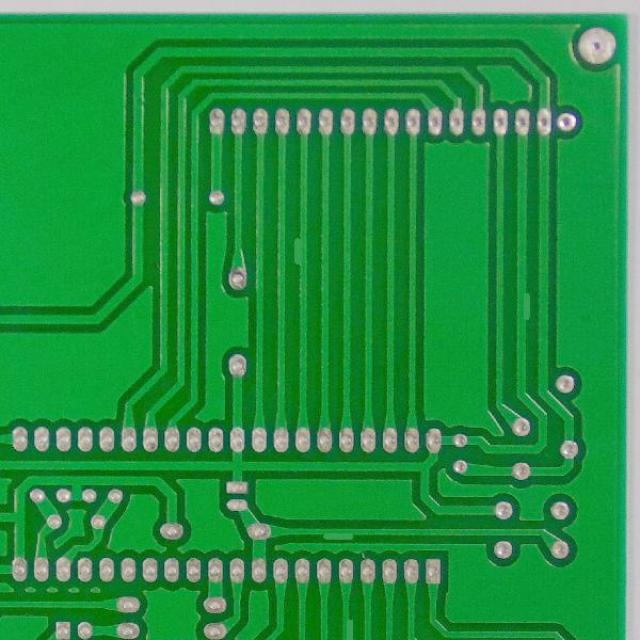Spur: (289, 229, 312, 272), (511, 284, 534, 326), (317, 525, 357, 543)
